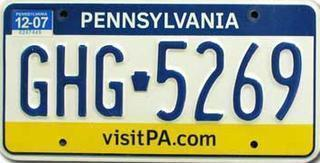placa de veiculo: (4, 8, 312, 155)
